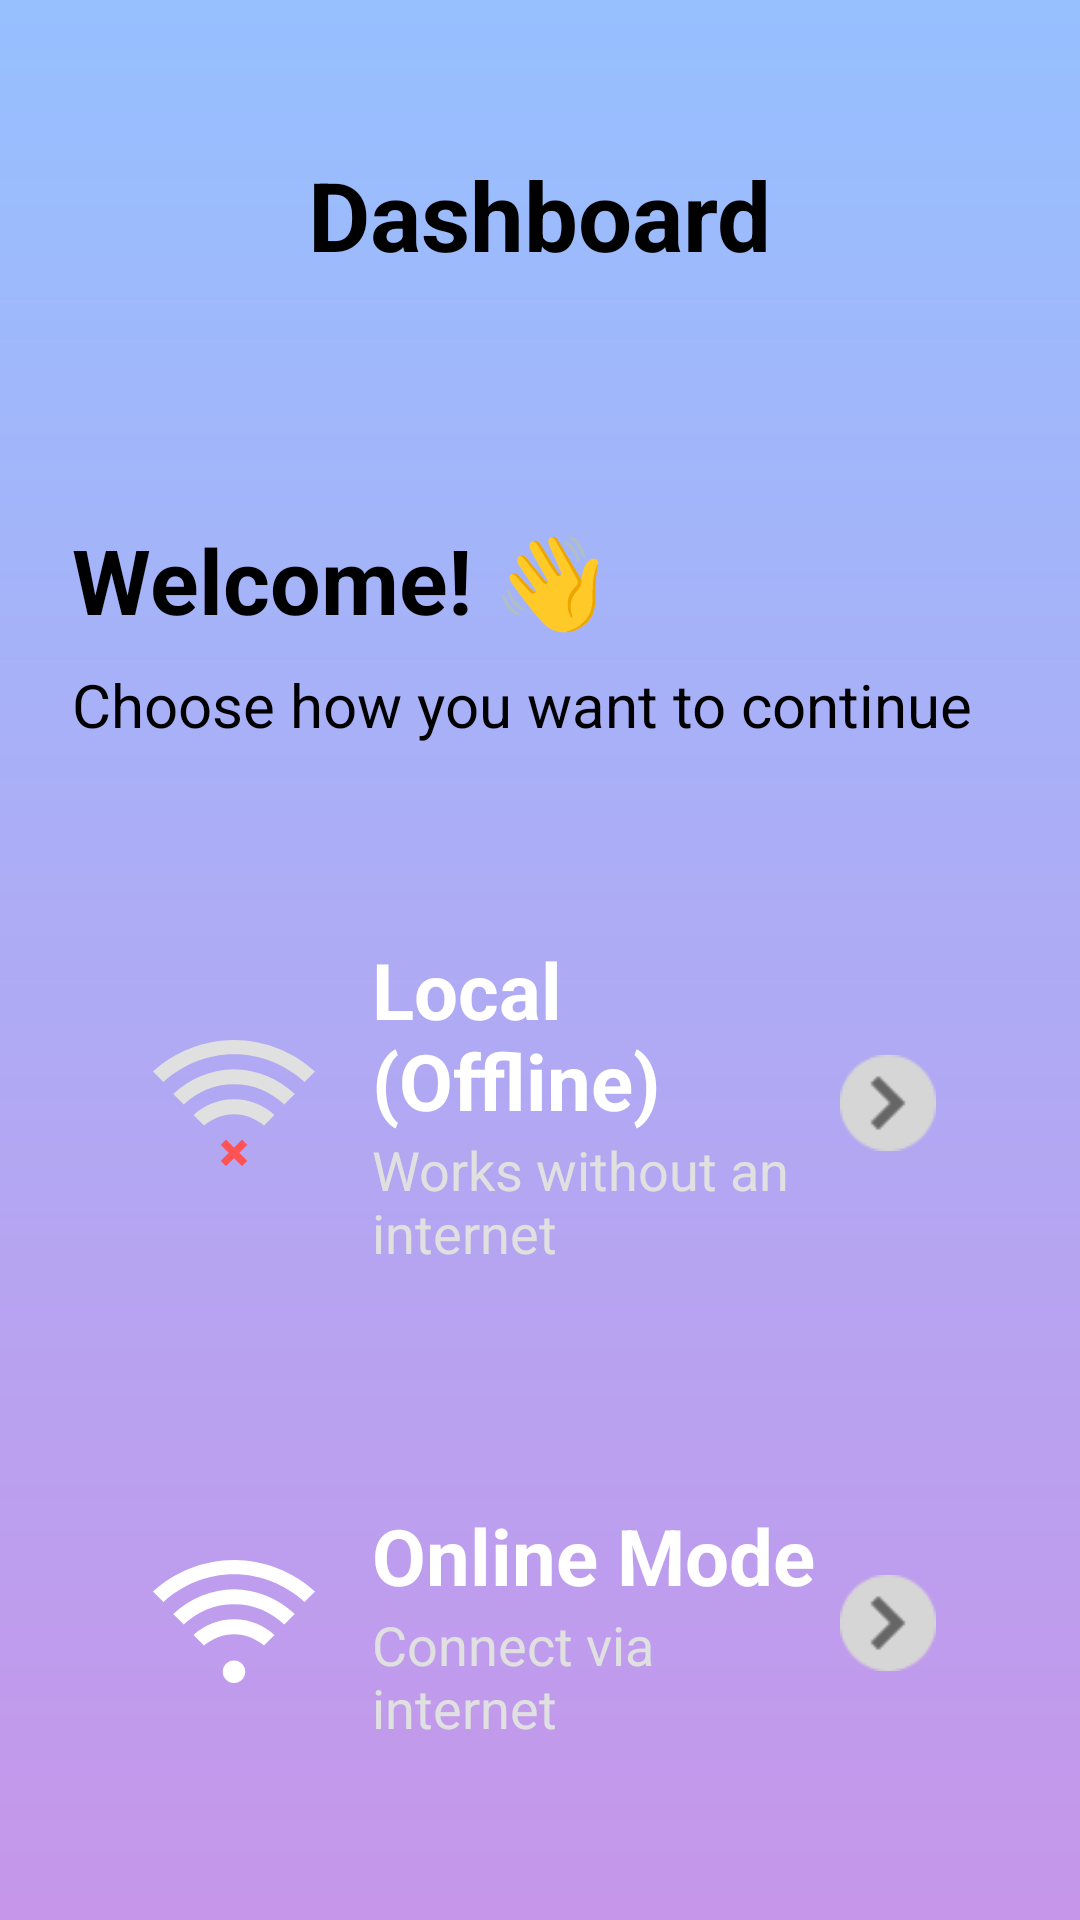

Icons on this 1080x1920 Android screen, each with its box as (x1, y1, x2, y2):
net: (153, 1560, 315, 1683)
next arrow: (840, 1055, 936, 1151), (840, 1575, 936, 1671)
no net: (153, 1040, 315, 1166)
